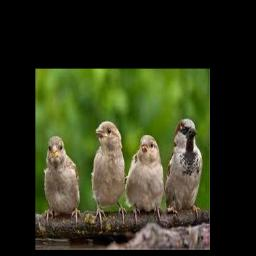Sparrow: (165, 117, 203, 219), (92, 121, 127, 227), (44, 136, 81, 226), (125, 134, 164, 219)
